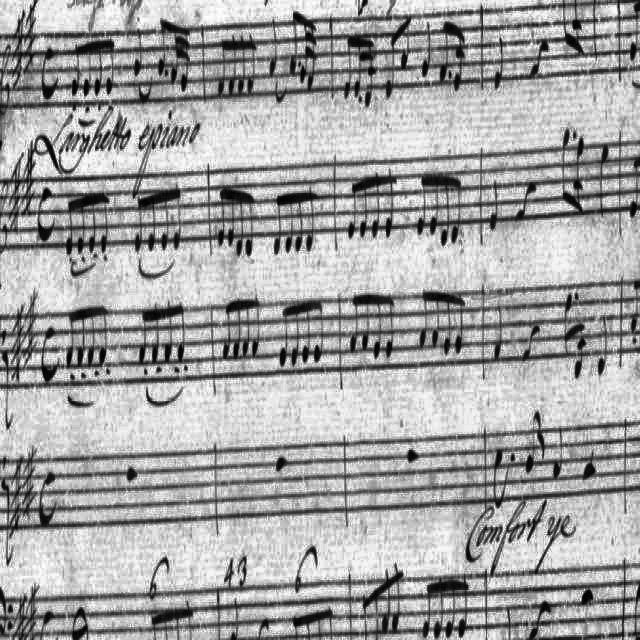Diez: (26, 582, 38, 622), (14, 592, 26, 628), (24, 622, 36, 640)
Eighth-note: (526, 408, 546, 477), (492, 447, 510, 509), (514, 180, 538, 224), (452, 175, 464, 245), (384, 171, 396, 241), (313, 291, 325, 361), (530, 598, 550, 640), (528, 39, 548, 80), (561, 124, 571, 204), (272, 189, 284, 255), (173, 184, 184, 256), (100, 190, 112, 254), (440, 173, 450, 247), (347, 173, 358, 239), (306, 182, 316, 254), (520, 322, 540, 358), (134, 194, 146, 253), (64, 197, 76, 256), (458, 574, 469, 638), (245, 191, 255, 261), (439, 18, 449, 86), (629, 150, 639, 218), (418, 168, 428, 236), (147, 188, 157, 256), (373, 291, 383, 359), (386, 34, 396, 100), (372, 173, 382, 239), (99, 300, 109, 364), (252, 292, 262, 356), (434, 575, 444, 639), (392, 566, 402, 630), (77, 303, 87, 365), (139, 300, 149, 362), (350, 288, 360, 350), (446, 577, 456, 639), (429, 170, 438, 238), (362, 284, 371, 352), (443, 287, 452, 355), (82, 38, 92, 98), (151, 302, 161, 362), (222, 296, 232, 356), (423, 578, 433, 638), (419, 281, 428, 347), (401, 14, 411, 72), (290, 4, 298, 76), (236, 186, 244, 258), (89, 190, 98, 254), (386, 288, 394, 358), (344, 32, 352, 100), (286, 188, 294, 256), (302, 296, 310, 364), (456, 286, 464, 354), (629, 0, 638, 60), (77, 192, 86, 252), (218, 187, 226, 253), (232, 293, 240, 359), (280, 300, 288, 366), (382, 574, 391, 632), (370, 588, 380, 640), (158, 14, 166, 78), (217, 34, 225, 98), (296, 188, 304, 252), (162, 189, 170, 253), (66, 302, 74, 366), (178, 296, 186, 360), (242, 292, 250, 356), (292, 300, 300, 364), (559, 0, 569, 50), (250, 615, 270, 640), (106, 33, 114, 95), (432, 283, 440, 345), (632, 579, 640, 640), (94, 36, 102, 96), (228, 36, 236, 96), (238, 36, 246, 96), (248, 35, 256, 95), (360, 178, 368, 238), (88, 304, 96, 364), (72, 40, 80, 98), (164, 303, 172, 361), (630, 276, 638, 332), (359, 591, 368, 640), (564, 292, 572, 344), (183, 599, 193, 640), (229, 184, 235, 252), (160, 600, 170, 640), (147, 604, 157, 640), (325, 607, 335, 640), (172, 604, 180, 640), (302, 612, 312, 640), (290, 612, 300, 640), (314, 608, 322, 640)
Half-note: (72, 604, 92, 640)
Half-rest: (582, 455, 602, 485)
Quarter-note: (596, 316, 612, 376), (598, 142, 610, 220), (553, 422, 567, 482), (590, 0, 602, 60), (488, 178, 500, 234), (494, 36, 506, 92), (132, 26, 144, 78), (490, 307, 502, 358), (422, 19, 432, 79), (269, 18, 279, 76)
Sixteenth-note: (308, 14, 320, 94), (576, 134, 588, 214), (453, 21, 465, 90), (365, 31, 375, 108), (574, 316, 586, 380), (180, 19, 190, 93), (573, 0, 583, 56), (300, 14, 308, 82), (354, 31, 362, 97), (171, 18, 179, 82)
Treble-clef: (0, 38, 12, 150), (0, 173, 8, 294)
